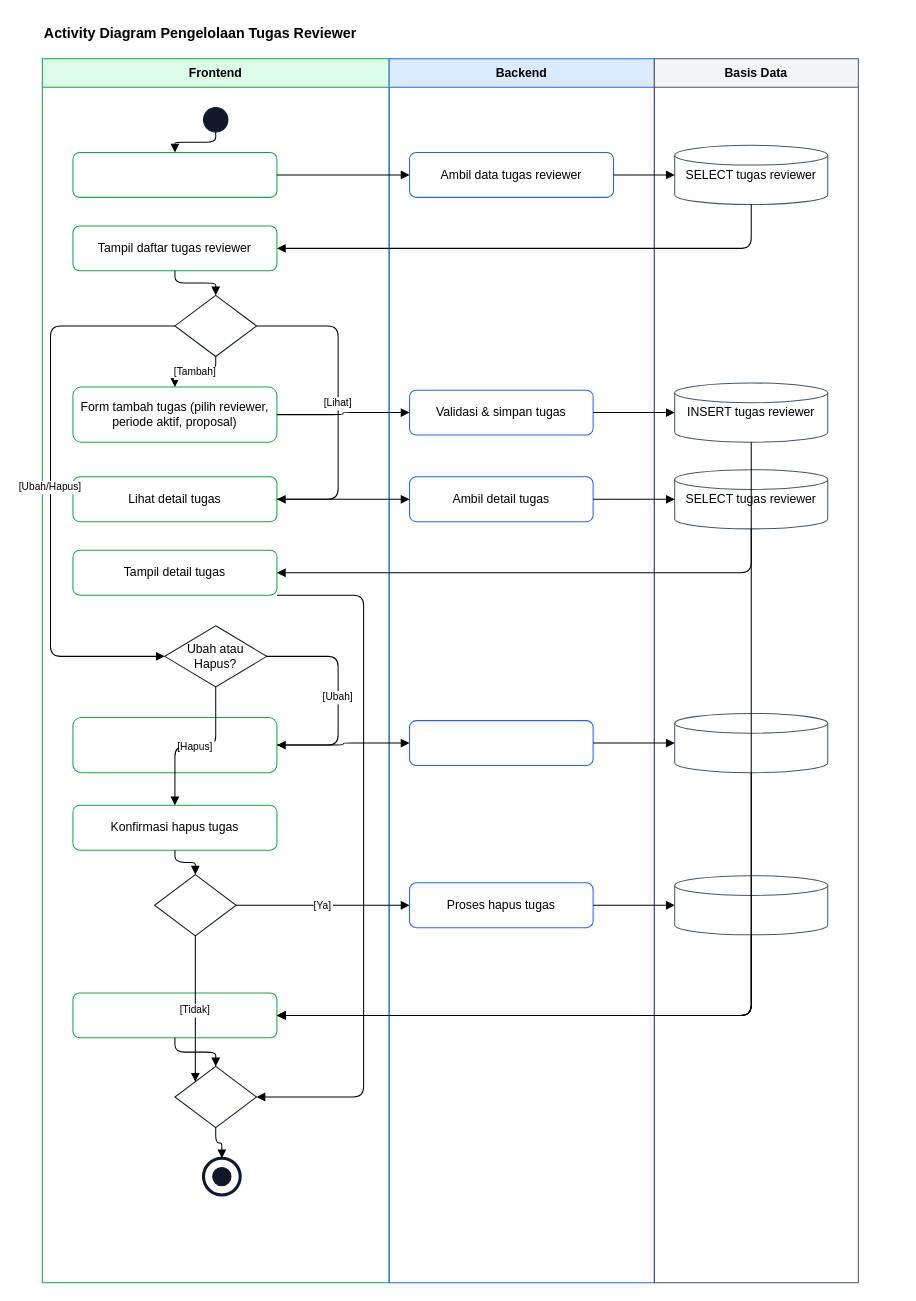
Image size: 916x1301. Some labels were removed from this diagram. The shapes that lost their labels are listed below. From the top down, each one's box as (x1, y1, x2, y2) in pixels, then its label:
(72, 151, 277, 197): Buka halaman daftar tugas reviewer
(174, 294, 257, 356): Pilih aksi?
(72, 717, 277, 773): Form ubah tugas (pilih reviewer, semua periode, proposal)
(409, 720, 593, 766): Validasi & perbarui tugas
(674, 712, 828, 773): UPDATE tugas reviewer
(154, 874, 236, 936): Konfirmasi?
(674, 875, 828, 935): DELETE tugas reviewer
(72, 992, 277, 1038): Perbarui tampilan & notifikasi
